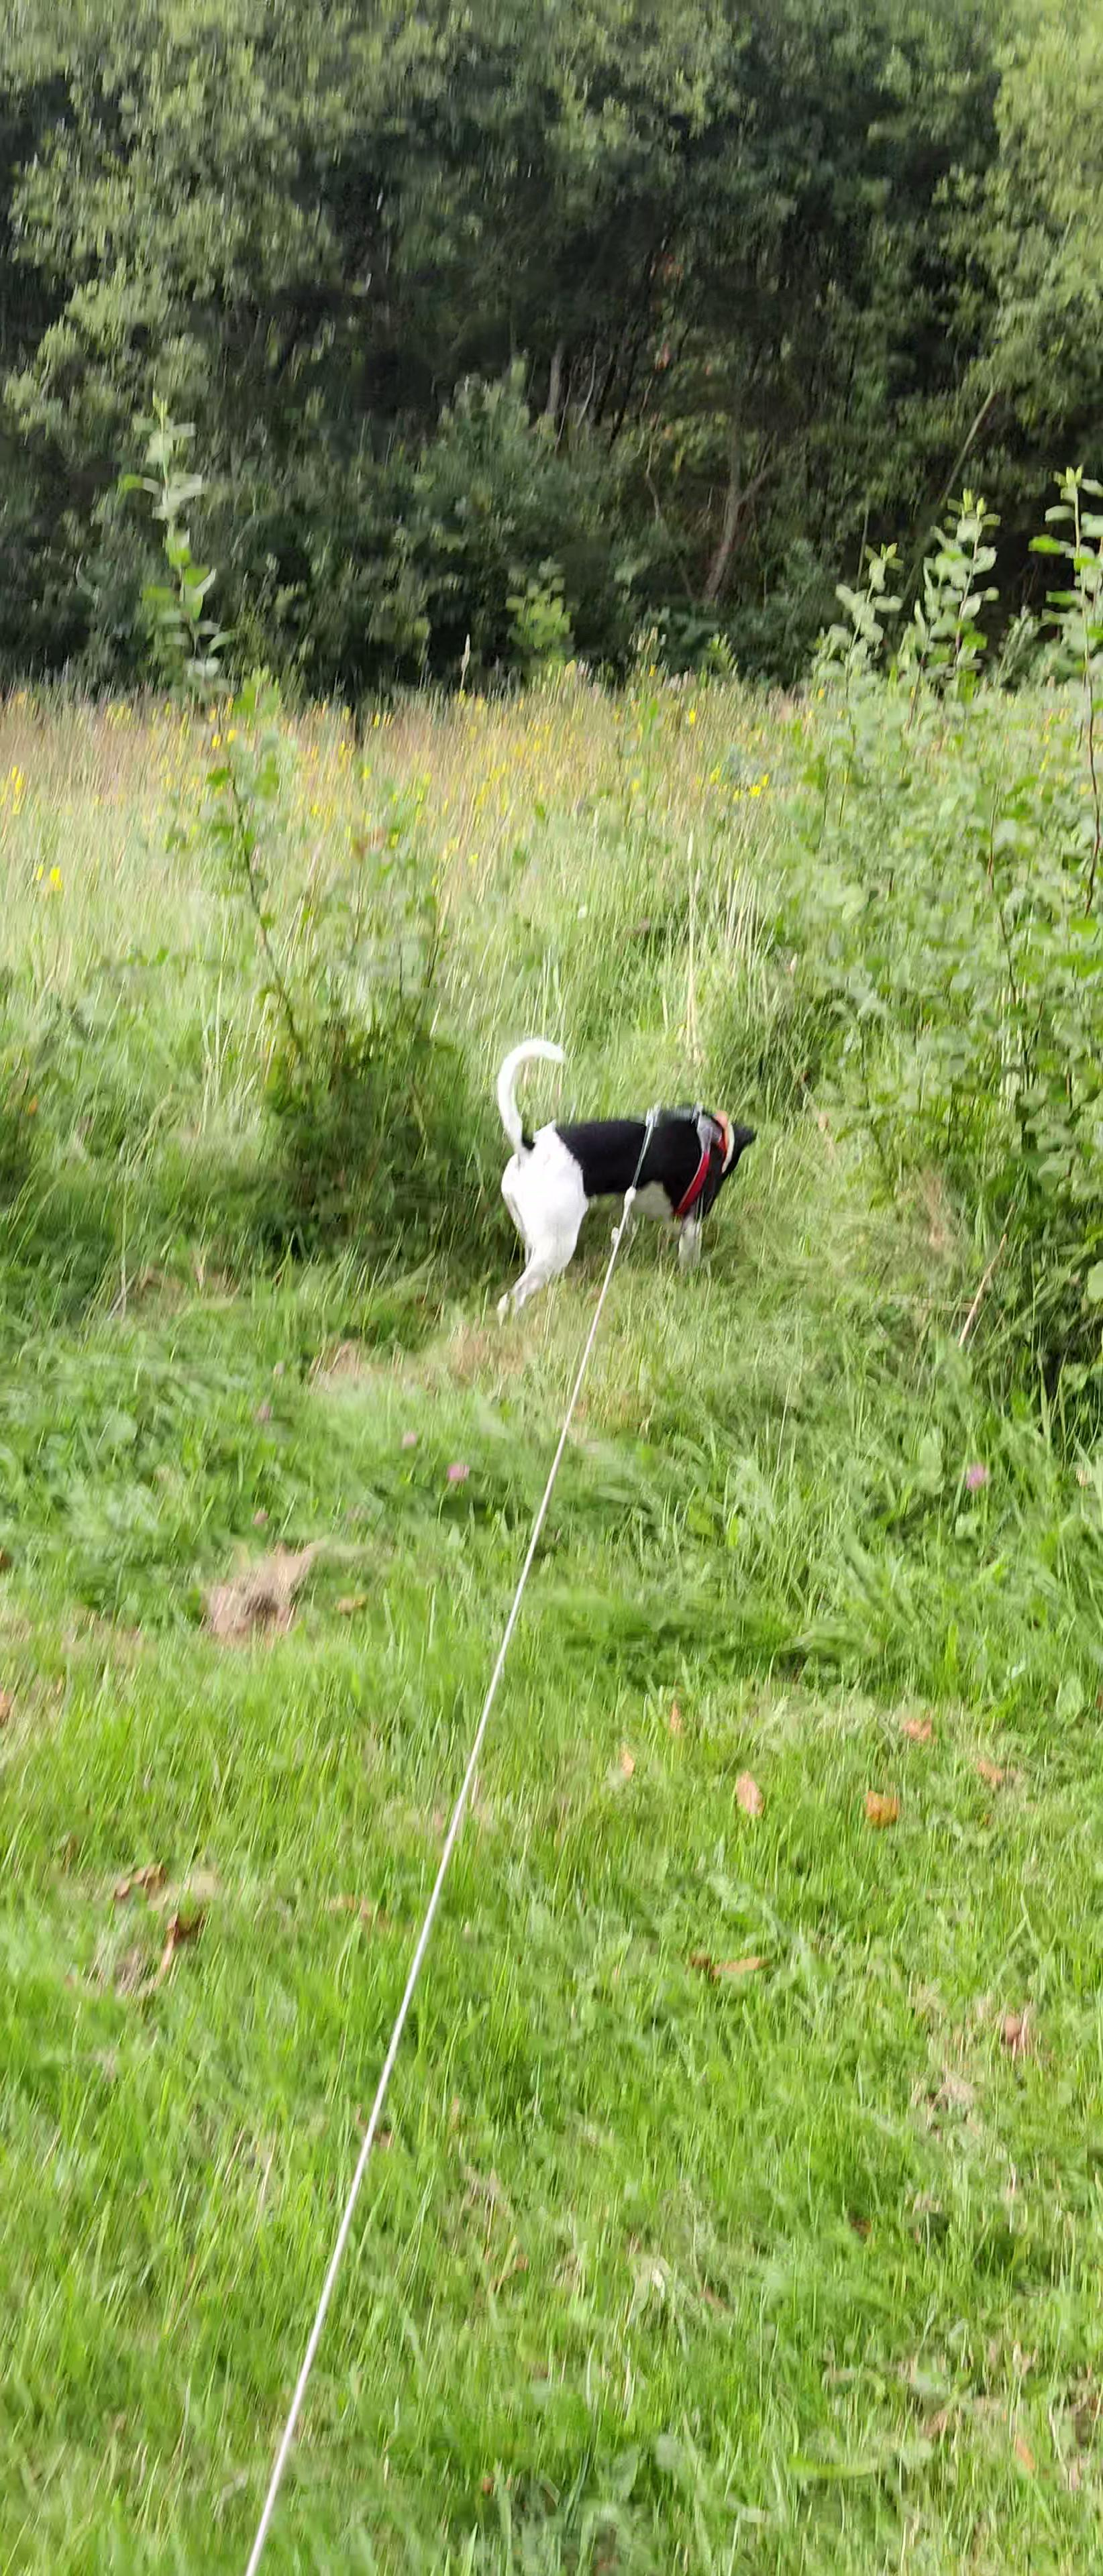Dog: (485, 1032, 758, 1326)
